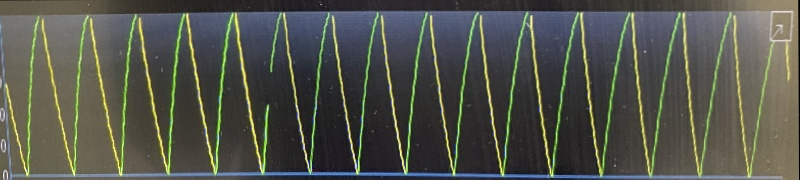normal_volume: (6, 8, 758, 180)
